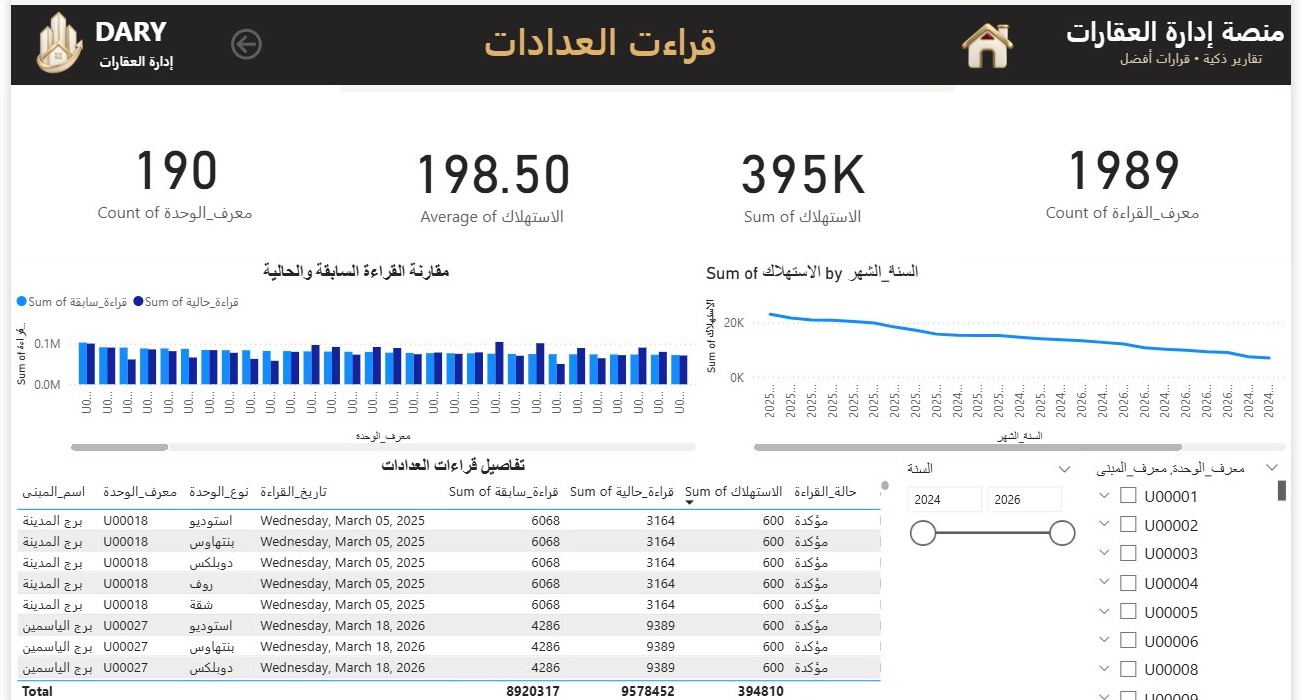

Layout of this report page (visuals, bound fields, positions):
{"tool":"powerbi","page":{"name":"قراءات العدادات","canvas":[1280,720],"ordinal":9},"visuals":[{"type":"shape","box":[0,10,2000,80.2],"z":0},{"type":"textbox","box":[1007.9,12.4,272.1,71.4],"z":1000},{"type":"textbox","box":[1072.3,49.4,183.8,49.4],"z":2000},{"type":"textbox","box":[78.3,11.9,187.2,52.8],"z":3000},{"type":"textbox","box":[76.6,37.4,188.9,52.8],"z":4000},{"type":"image","box":[0,10.2,95.3,76.6],"z":5000},{"type":"actionButton","box":[214.5,28.9,100.4,40.9],"z":6000},{"type":"textbox","box":[432.3,15.3,314.9,71.5],"z":7000},{"type":"card","fields":{"Values":["Avg(Fact_MeterReading.الاستهلاك)"]},"box":[322.5,97.5,317.5,170],"z":8000},{"type":"card","fields":{"Values":["Count(Fact_MeterReading.معرف_الوحدة)"]},"box":[0,90,328.8,177.5],"z":9000},{"type":"card","fields":{"Values":["Sum(Fact_MeterReading.الاستهلاك)"]},"box":[640,97.5,303.8,170],"z":10000},{"type":"card","fields":{"Values":["Count(Fact_MeterReading.معرف_القراءة)"]},"box":[943.8,90,336.2,177.5],"z":11000},{"type":"slicer","fields":{"Values":["Dim_Date.السنة"]},"box":[883.8,461.2,188.8,258.8],"z":12000},{"type":"slicer","fields":{"Values":["Fact_MeterReading.معرف_الوحدة","Dim_Building.معرف_المبنى"]},"box":[1072.5,460,207.5,260],"z":13000},{"type":"lineChart","fields":{"Category":["Dim_Date.السنة_الشهر"],"Y":["Sum(Fact_MeterReading.الاستهلاك)"]},"box":[690,267.5,590,193.8],"z":14000},{"type":"lineClusteredColumnComboChart","title":"مقارنة القراءة السابقة والحالية","fields":{"Category":["Fact_MeterReading.معرف_الوحدة"],"Y":["Sum(Fact_MeterReading.قراءة_سابقة)","Sum(Fact_MeterReading.قراءة_حالية)"]},"box":[0,267.5,690,193.8],"z":15000},{"type":"tableEx","title":"تفاصيل قراءات العدادات","fields":{"Values":["Dim_Building.اسم_المبنى","Fact_MeterReading.معرف_الوحدة","Dim_Unit.نوع_الوحدة","Fact_MeterReading.تاريخ_القراءة","Sum(Fact_MeterReading.قراءة_سابقة)","Sum(Fact_MeterReading.قراءة_حالية)","Sum(Fact_MeterReading.الاستهلاك)","Fact_MeterReading.حالة_القراءة","Fact_MeterReading.معرف_القراءة"]},"box":[0,461.2,883.8,258.8],"z":16000},{"type":"image","box":[926.2,7.5,101.2,86.2],"z":17000}]}

Visuals, with their boxes on the page's 1280x720 design canvas (x1, y1, x2, y2). These are canvas units, not pixel positions in the 1302x700 screenshot, which may show the page scaled, cropped or inside an application window:
shape: bbox=[0, 10, 2000, 90]
textbox: bbox=[1008, 12, 1280, 84]
textbox: bbox=[1072, 49, 1256, 99]
textbox: bbox=[78, 12, 266, 65]
textbox: bbox=[77, 37, 266, 90]
image: bbox=[0, 10, 95, 87]
actionButton: bbox=[214, 29, 315, 70]
textbox: bbox=[432, 15, 747, 87]
card - Avg(Fact_MeterReading.الاستهلاك): bbox=[322, 98, 640, 268]
card - Count(Fact_MeterReading.معرف_الوحدة): bbox=[0, 90, 329, 268]
card - Sum(Fact_MeterReading.الاستهلاك): bbox=[640, 98, 944, 268]
card - Count(Fact_MeterReading.معرف_القراءة): bbox=[944, 90, 1280, 268]
slicer - Dim_Date.السنة: bbox=[884, 461, 1073, 720]
slicer - Fact_MeterReading.معرف_الوحدة x Dim_Building.معرف_المبنى: bbox=[1072, 460, 1280, 720]
lineChart - Dim_Date.السنة_الشهر x Sum(Fact_MeterReading.الاستهلاك): bbox=[690, 268, 1280, 461]
"مقارنة القراءة السابقة والحالية" lineClusteredColumnComboChart: bbox=[0, 268, 690, 461]
"تفاصيل قراءات العدادات" tableEx: bbox=[0, 461, 884, 720]
image: bbox=[926, 8, 1027, 94]
